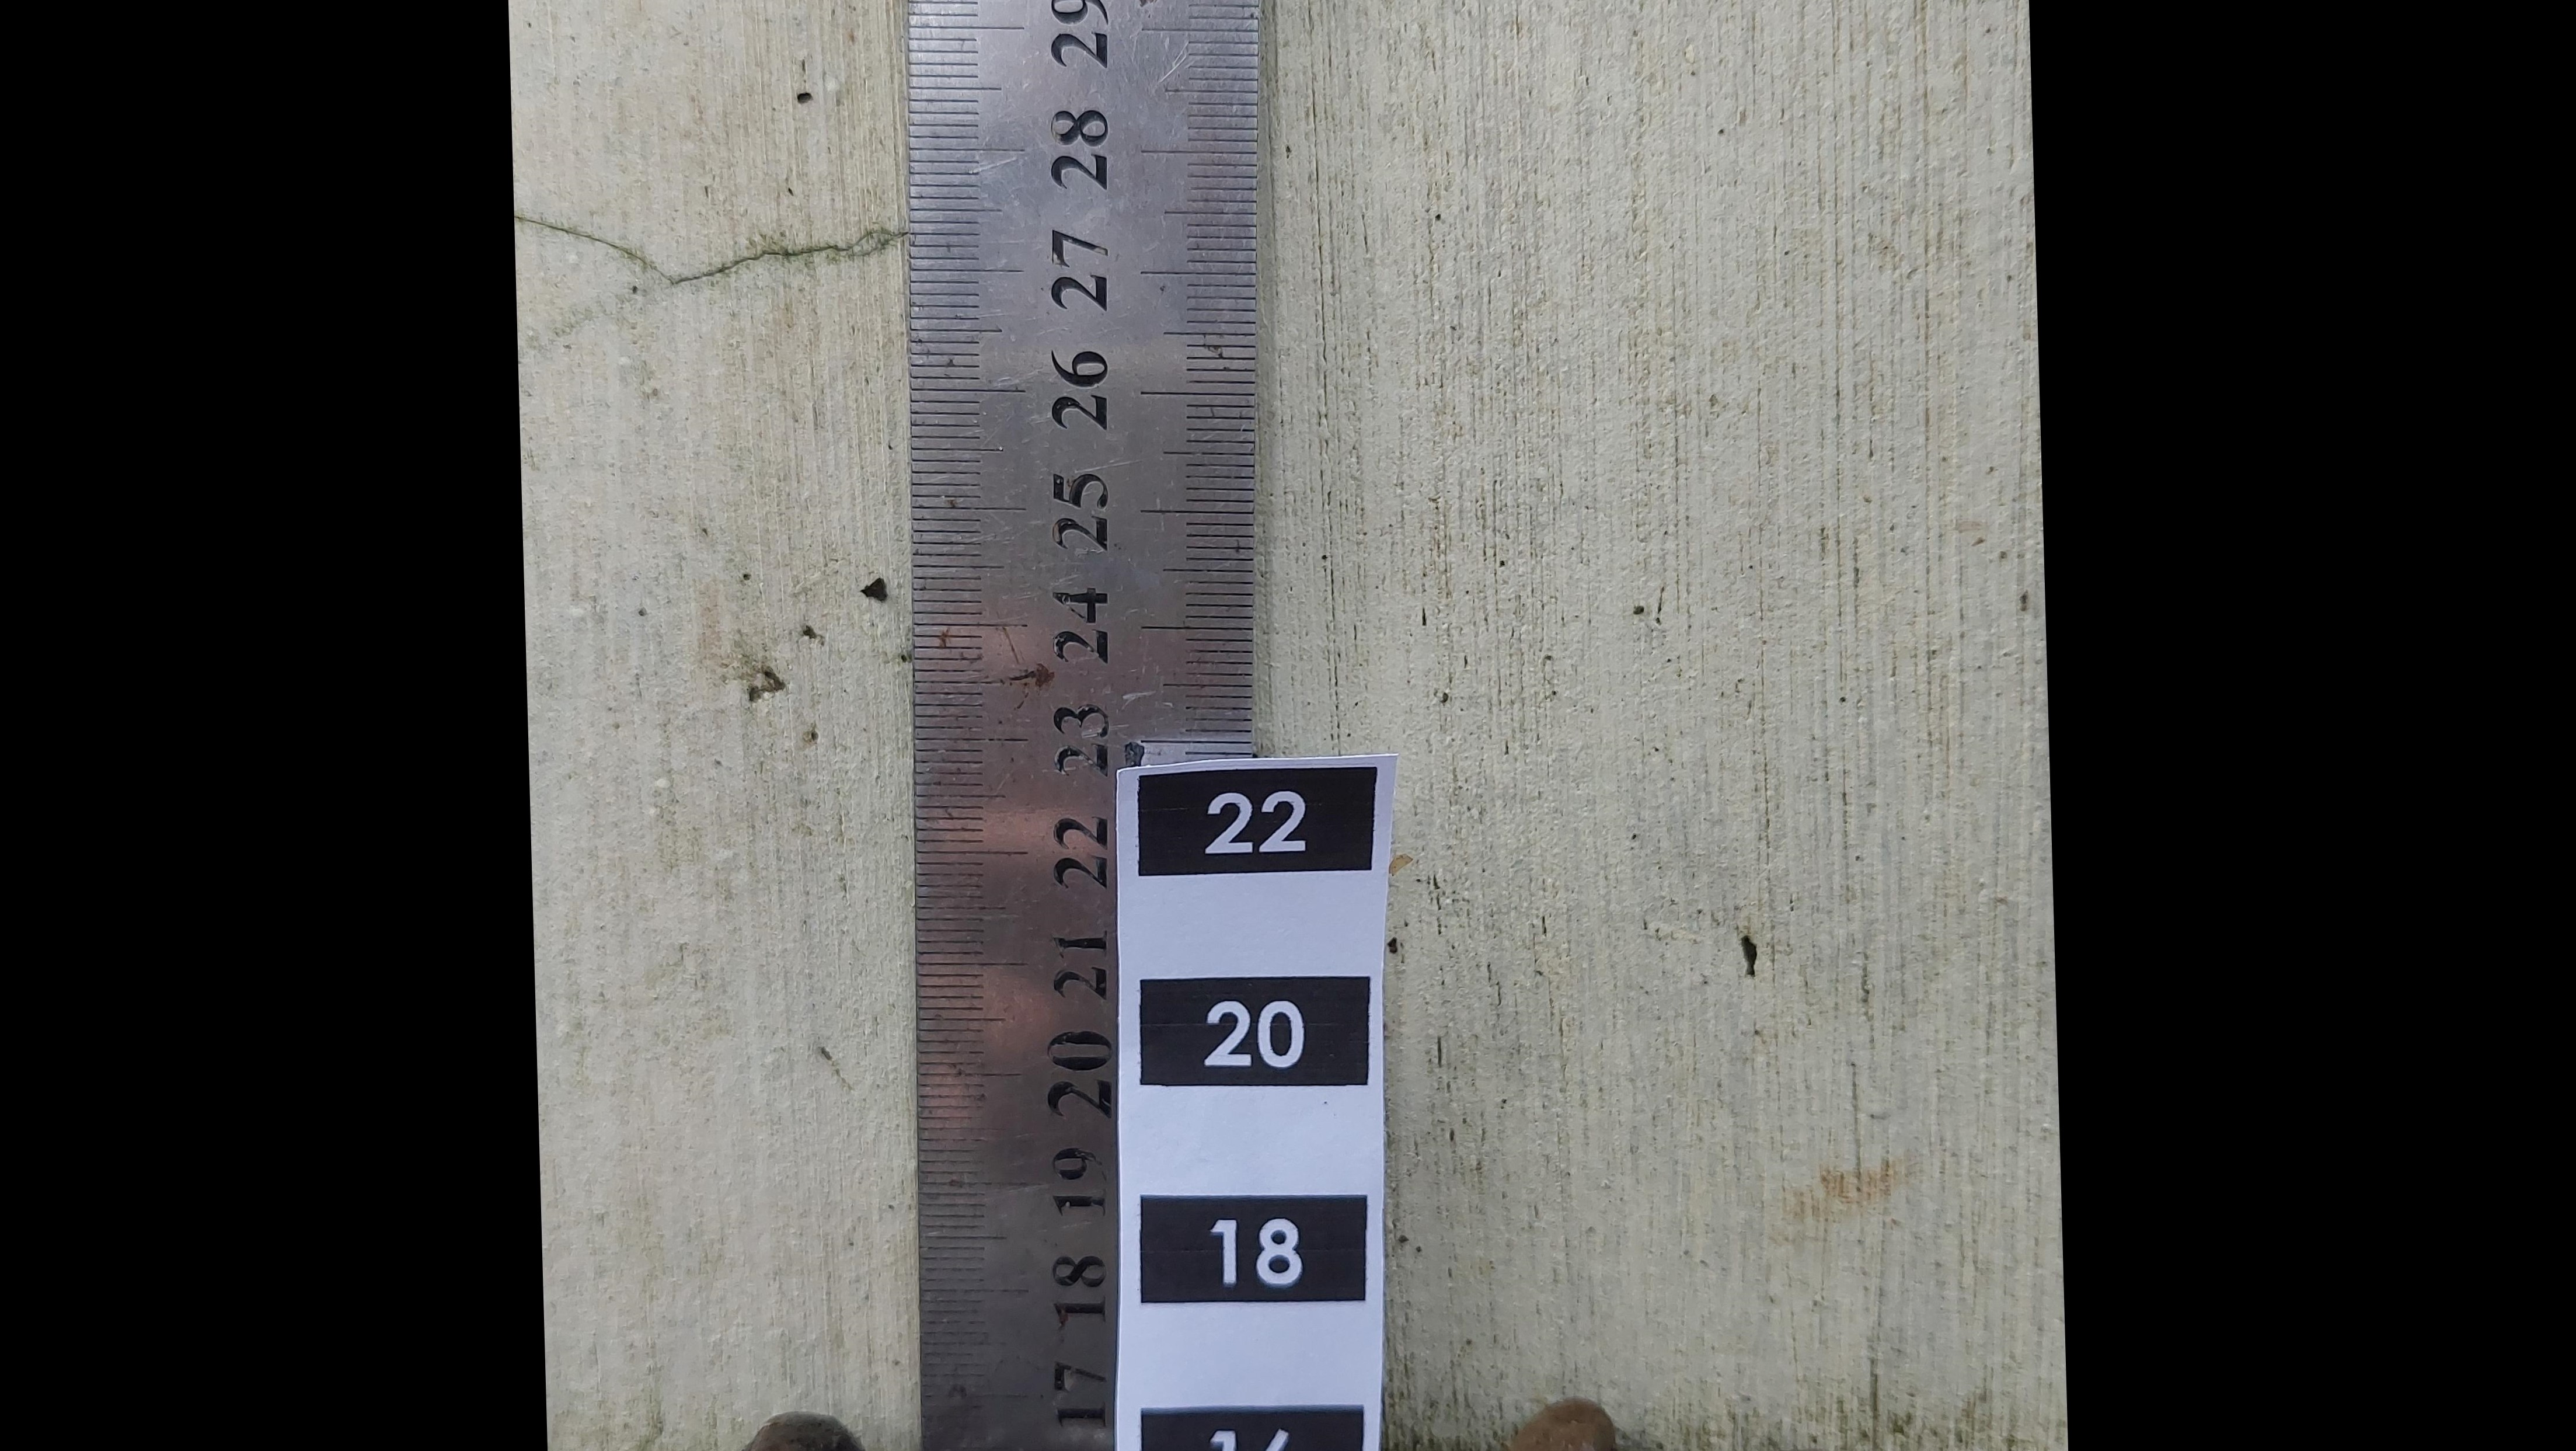kotak_2x1: (1141, 980, 1366, 1092), (1138, 773, 1369, 876), (1143, 1196, 1366, 1302)
